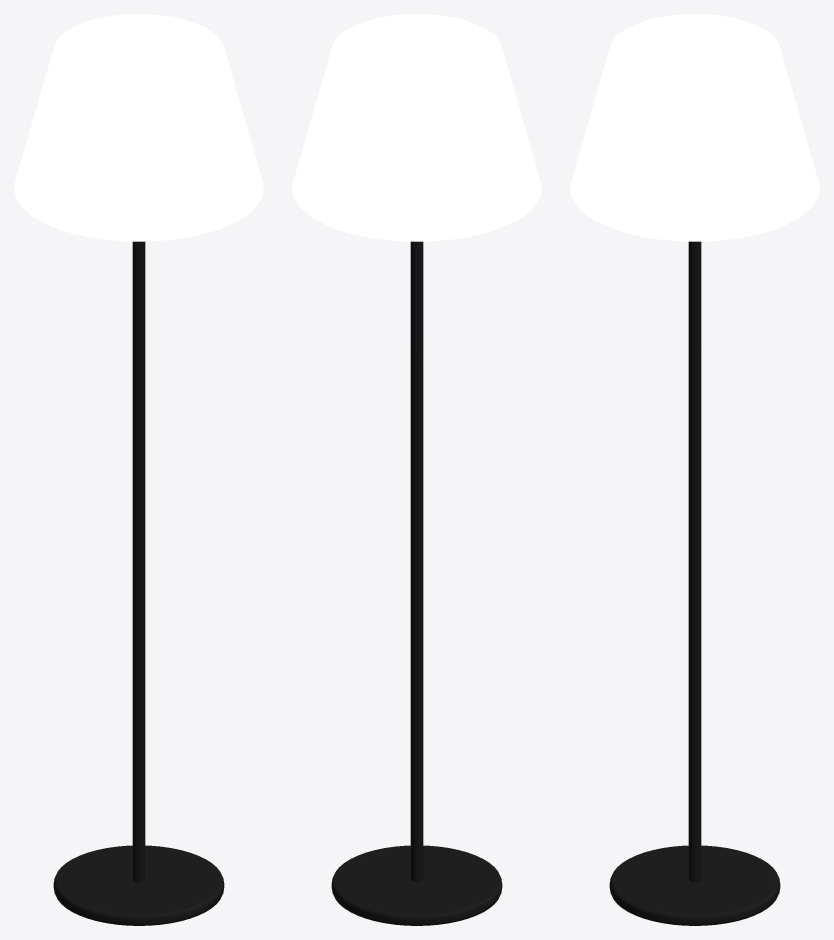
Rendered from lamp.glb.
3 renders of one model, left to right at view 1: azimuth 30°, elevation 25°; view 2: azimuth 150°, elevation 25°; view 3: azimuth 270°, elevation 25°, orthographic.
Parts seen in each view (by area): view 1: Cylinder; view 2: Cylinder; view 3: Cylinder.
Boxes of the visible parts, left/top/right/bottom form: Cylinder: left=14, top=14, right=263, bottom=925; Cylinder: left=292, top=14, right=541, bottom=925; Cylinder: left=570, top=14, right=819, bottom=925.
Bounding box in the file's own units: 0.44 × 1.63 × 0.44.
1 material, 1 textured.
